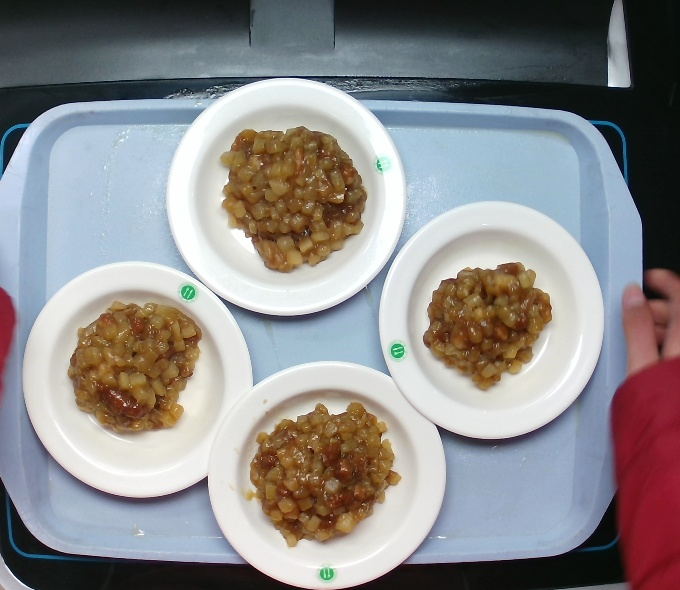wcq-RouYuan: (208, 103, 381, 281), (238, 390, 400, 543), (59, 288, 217, 444), (411, 235, 567, 390)
